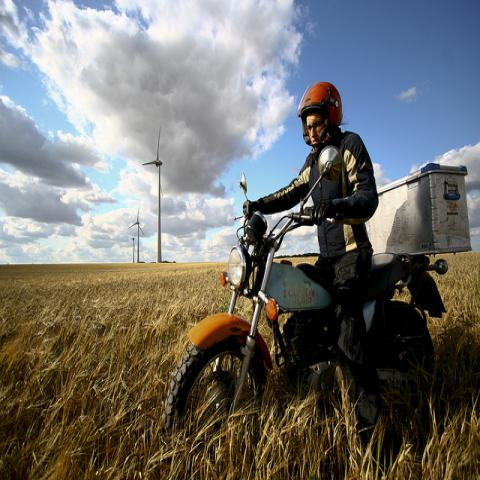motorcycle: (163, 152, 447, 436)
